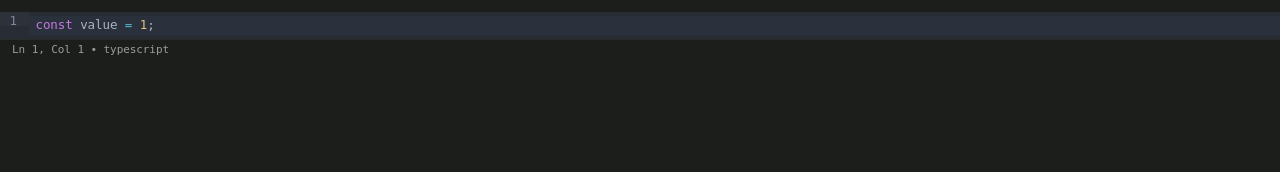
Test: IDE-5: Inline Edit (Ctrl+K) › inline generation without a project reports guidance before sending a request
The image size is (1280, 172).
Press k in the field with class "cm-content", box [30,12,1279,39]
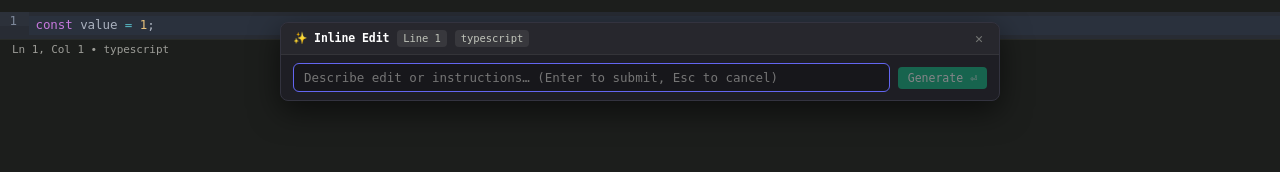
Replace the text in the field with test id "inline-edit-input" with "rename value" at (591, 78), box [293,63,890,92]
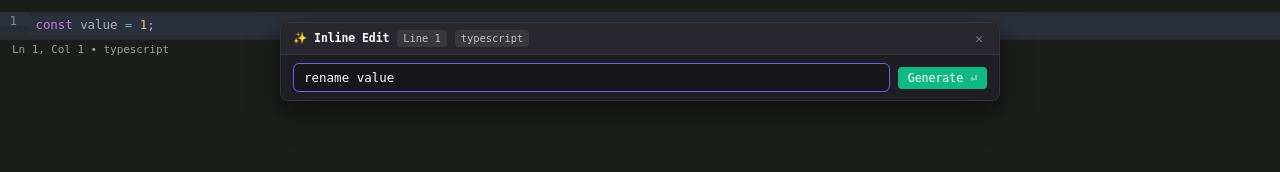
Click the button with test id "inline-edit-submit-btn" at (942, 78), box [898,66,987,88]
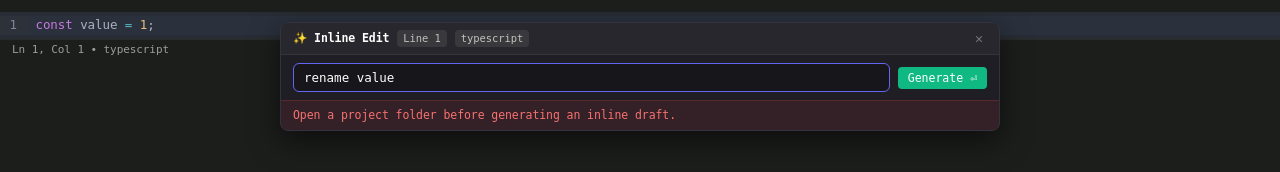
Check: the text box labelled "const value = 1;" is shown, box [30,16,1279,35]
Check: the text with test id "inline-edit-error" shows "Open a project folder", box [293,108,676,122]
